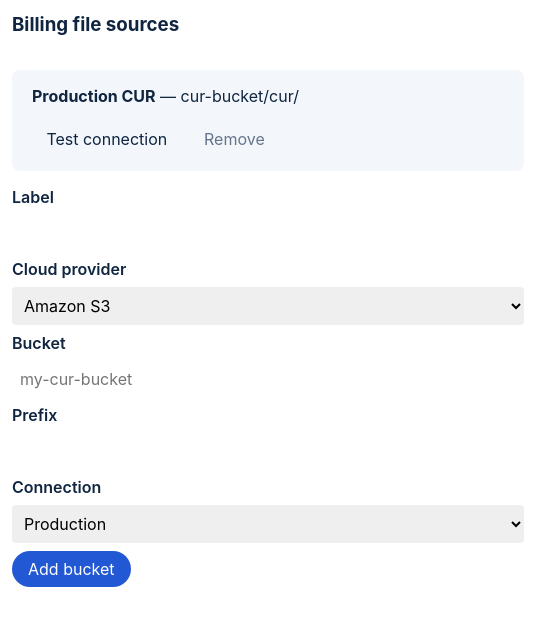
BillingFileSourcesPanel › asks before deleting and does nothing until confirmed
Expected: the text "Production CUR" is shown, [32, 86, 156, 106]
Step 1. Click the button "Remove" → (234, 139), box [190, 122, 279, 155]
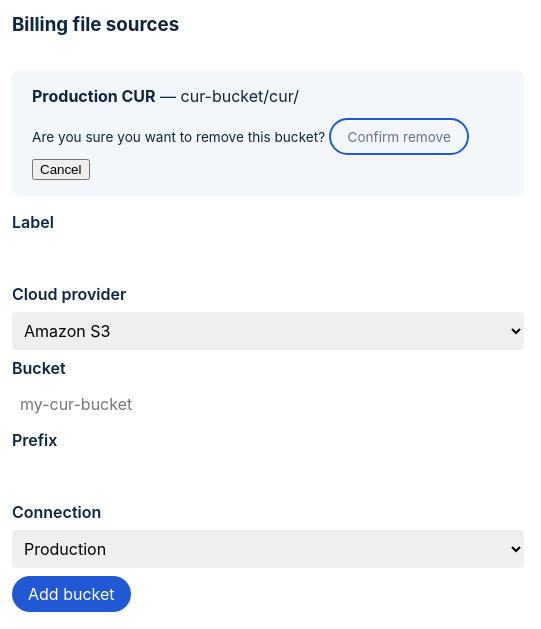
Now the text "Are you sure you want to remove this bucket?" is shown, box [32, 129, 325, 145]
